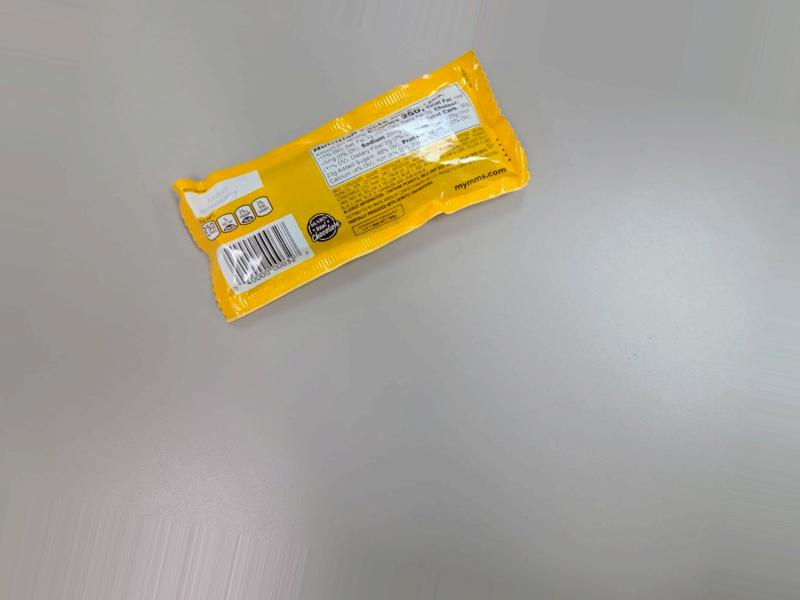m&m: (195, 42, 526, 321)
